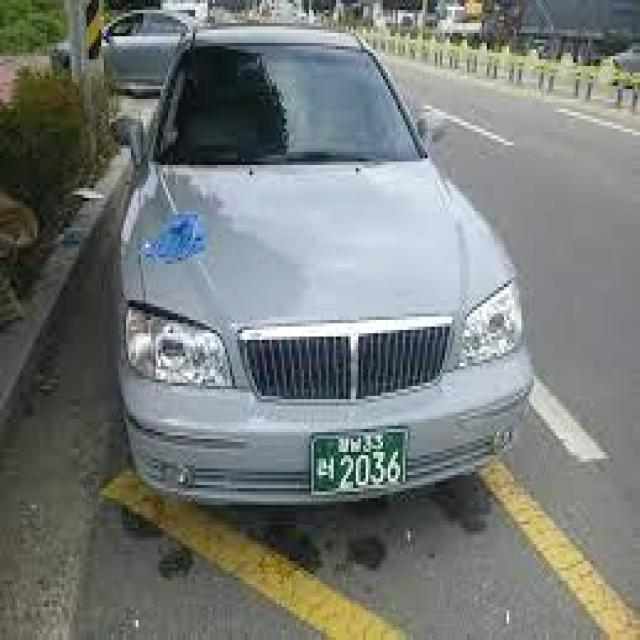car: (110, 19, 534, 512)
illegal_plate: (309, 425, 411, 499)
